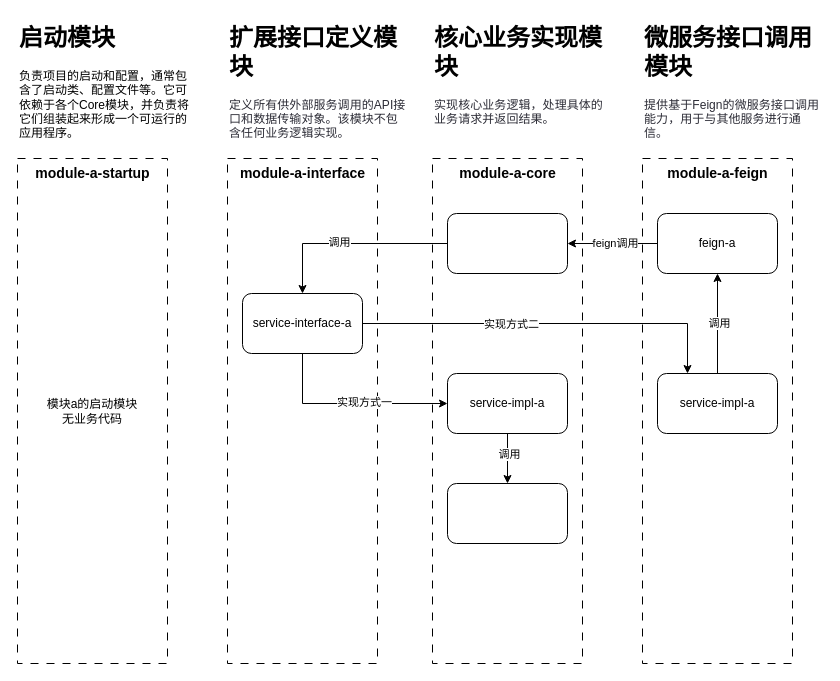
Image size: 840x681. Some labels were removed from this diagram. The shapes that lost their labels are listed below. From the top down, each one's centre as x and y in pixels, then its label:
the point at 507,243: controller-a
the point at 507,513: dao-a
